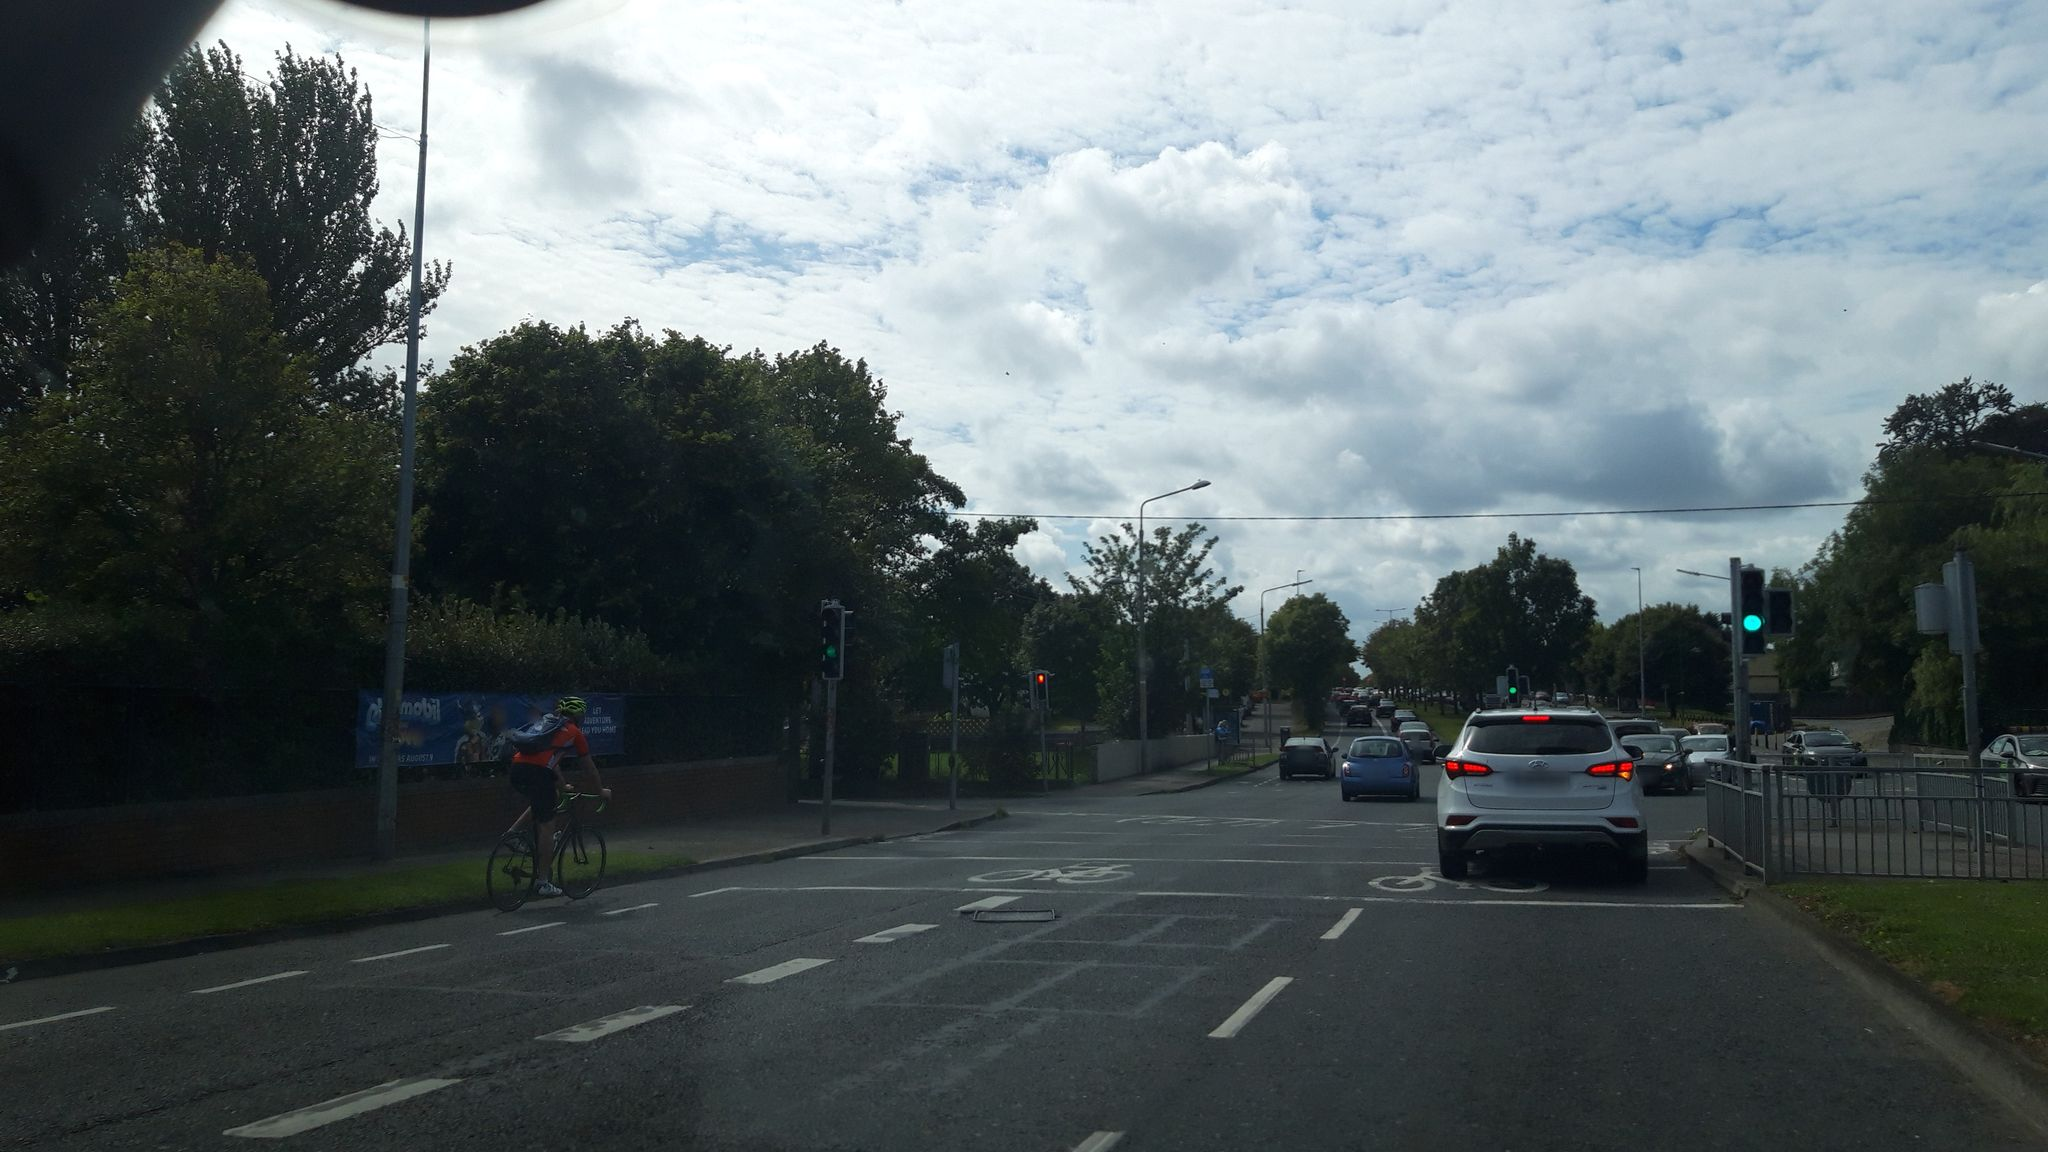vinyl banner: (343, 665, 653, 779)
